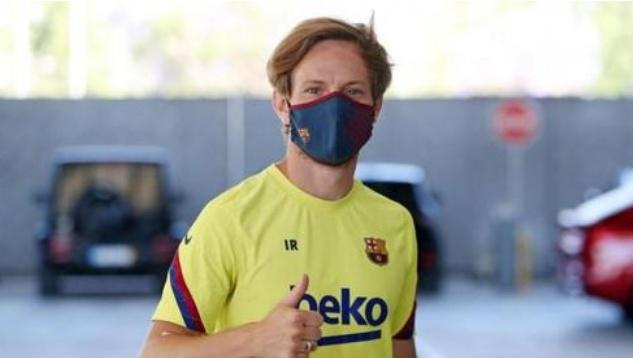OK: (291, 60, 374, 165)
